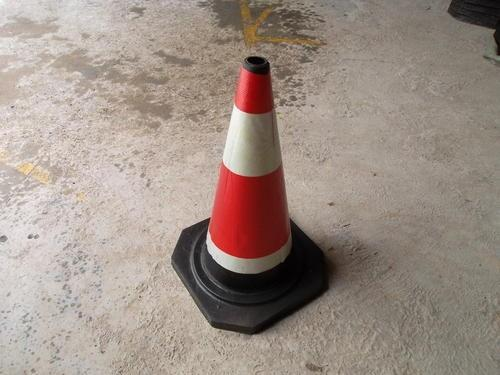cone_barrel: (196, 52, 302, 287)
